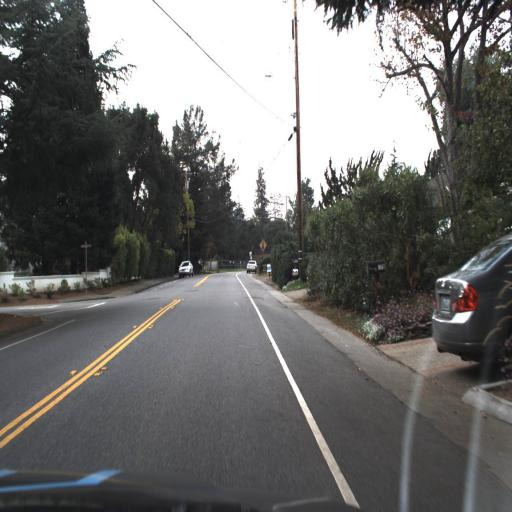car: (430, 229, 512, 392), (178, 257, 193, 280), (244, 257, 258, 273)
